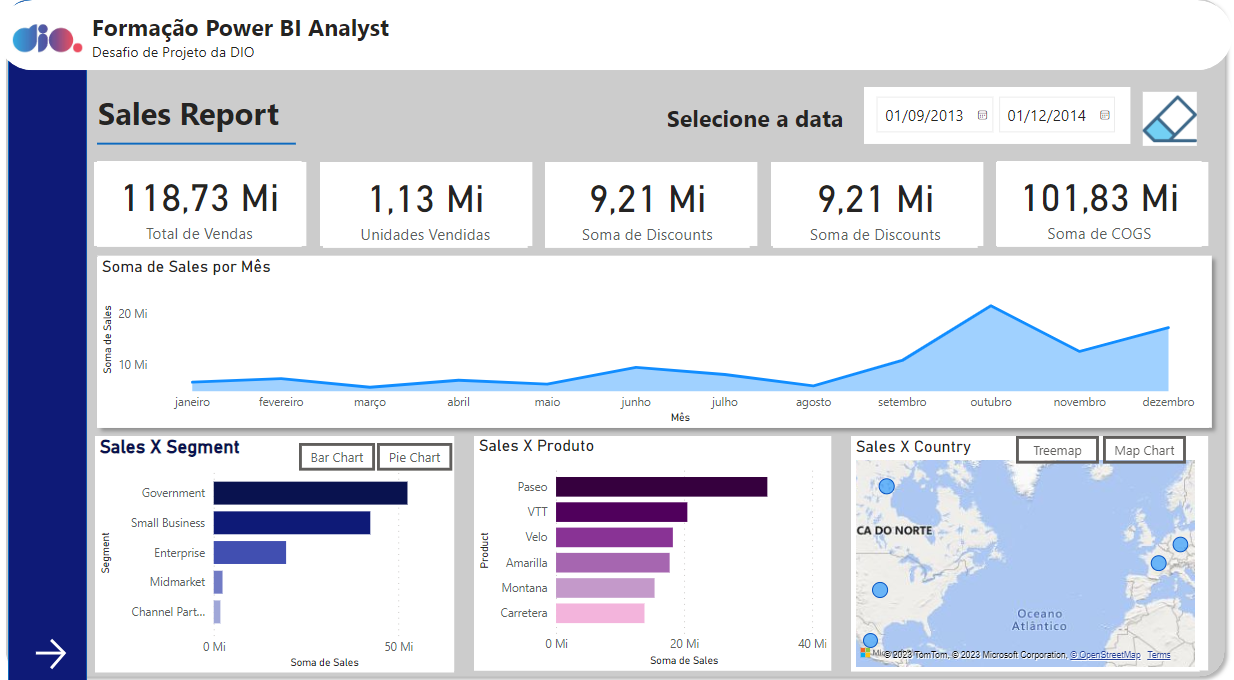

This screenshot's page, from the dashboard's own definition file:
{"tool":"powerbi","page":{"name":"Página 1","canvas":[1280,720],"ordinal":0},"visuals":[{"type":"shape","box":[0,0,1280.5,720],"z":0},{"type":"image","title":"Clean","box":[1179.6,100.4,68.7,66],"z":0,"group":"g4"},{"type":"shape","box":[101,178.6,220,87.1],"z":0,"group":"g2"},{"type":"shape","box":[103.9,462.4,370,242.9],"z":0,"group":"g1"},{"type":"slicer","fields":{"Values":["financials.Date"]},"box":[897.8,100.4,276.3,59.1],"z":1000,"group":"g4"},{"type":"shape","box":[334.7,178.6,220,87.1],"z":1000,"group":"g2"},{"type":"group","id":"g1","title":"Grupo 1","box":[103.9,462.4,1151.7,242.9],"z":1000},{"type":"shape","box":[885.4,462.4,370.2,242.9],"z":1000,"group":"g1"},{"type":"map","title":"Sales X Country","fields":{"Size":["Sum(financials. Sales)"],"Category":["financials.Country"]},"box":[885,462.5,361.5,242.9],"z":1000,"group":"g3"},{"type":"shape","box":[11.7,10.2,82,709.8],"z":2000},{"type":"textbox","box":[674.1,111,221.9,54.6],"z":2000,"group":"g4"},{"type":"shape","box":[568.5,178.6,220,87.1],"z":2000,"group":"g2"},{"type":"shape","box":[494.5,462.4,370.2,242.9],"z":2000,"group":"g1"},{"type":"actionButton","title":"Botão Map Chart","box":[1145.7,461.9,85.9,28.6],"z":2250,"group":"g3"},{"type":"actionButton","title":"Botão Treemap","box":[1056.2,461.9,85.9,28.6],"z":2500,"group":"g3"},{"type":"shape","box":[802.2,178.6,220,87.1],"z":3000,"group":"g2"},{"type":"shape","box":[1035.9,178.6,220,87.1],"z":4000,"group":"g2"},{"type":"shape","title":"Forma","box":[0,10,1280,72.9],"z":5000},{"type":"card","fields":{"Values":["Sum(financials. Sales)"]},"box":[103.9,177.1,212.2,89.3],"z":5000,"group":"g2"},{"type":"image","box":[11.7,16.1,82,67.3],"z":5500},{"type":"textbox","title":"Título do report","box":[93.7,16.1,1091.7,67.3],"z":6000},{"type":"card","fields":{"Values":["Sum(financials.Units Sold)"]},"box":[338.1,178.6,212.2,89.3],"z":6000,"group":"g2"},{"type":"shape","box":[103.9,153.7,206.3,11.7],"z":7000},{"type":"card","fields":{"Values":["Sum(financials.Discounts)"]},"box":[567.8,178.6,212.2,89.3],"z":7000,"group":"g2"},{"type":"textbox","box":[99.5,99.5,216.6,54.1],"z":8000},{"type":"card","fields":{"Values":["Sum(financials.COGS)"]},"box":[1036.1,177.1,212.2,89.3],"z":8000,"group":"g2"},{"type":"card","fields":{"Values":["Sum(financials.Discounts)"]},"box":[804.9,178.6,212.2,89.3],"z":9000,"group":"g2"},{"type":"shape","box":[95.1,266.3,1172.2,196.1],"z":9000},{"type":"group","id":"g2","title":"Cartões","box":[101,177.1,1154.9,90.7],"z":10000},{"type":"areaChart","fields":{"Y":["Sum(financials. Sales)"],"Category":["financials.Date.Variation.Hierarquia de datas.Mês"]},"box":[103.9,276.6,1151.7,177.1],"z":11000},{"type":"clusteredBarChart","title":"Sales X Produto","fields":{"Y":["Sum(financials. Sales)"],"Category":["financials.Product"]},"box":[494.6,462.4,370.2,242.9],"z":12000},{"type":"group","id":"g3","title":"Sales X País","box":[883.9,461.9,362.5,243.5],"z":13000},{"type":"group","id":"g4","title":"Grupo 2","box":[674.1,100.4,574.2,66],"z":14000},{"type":"actionButton","title":"Botão avançar","box":[34.2,667.5,59.5,41.6],"z":15000},{"type":"clusteredBarChart","title":"Sales X Segment","fields":{"Y":["Sum(financials. Sales)"],"Category":["financials.Segment"]},"box":[101.7,462,372.4,245.3],"z":16000,"group":"g5"},{"type":"group","id":"g5","title":"Sales X Segment","box":[101.7,462,372.4,247],"z":19001},{"type":"actionButton","title":"Botão Bar Chart","box":[313.4,469.2,78.8,28.6],"z":19500,"group":"g5"},{"type":"actionButton","title":"Botão Pie Chart","box":[394,469.2,78,28.6],"z":20000,"group":"g5"}]}

Visuals, with their boxes on the page's 1280x720 design canvas (x1, y1, x2, y2). These are canvas units, not pixel positions in the 1234x680 screenshot, which may show the page scaled, cropped or inside an application window:
shape: (left=0, top=0, right=1280, bottom=720)
"Clean" image: (left=1180, top=100, right=1248, bottom=166)
shape: (left=101, top=179, right=321, bottom=266)
shape: (left=104, top=462, right=474, bottom=705)
slicer - financials.Date: (left=898, top=100, right=1174, bottom=160)
shape: (left=335, top=179, right=555, bottom=266)
"Grupo 1" group: (left=104, top=462, right=1256, bottom=705)
shape: (left=885, top=462, right=1256, bottom=705)
"Sales X Country" map: (left=885, top=462, right=1246, bottom=705)
shape: (left=12, top=10, right=94, bottom=720)
textbox: (left=674, top=111, right=896, bottom=166)
shape: (left=568, top=179, right=788, bottom=266)
shape: (left=494, top=462, right=865, bottom=705)
"Botão Map Chart" actionButton: (left=1146, top=462, right=1232, bottom=490)
"Botão Treemap" actionButton: (left=1056, top=462, right=1142, bottom=490)
shape: (left=802, top=179, right=1022, bottom=266)
shape: (left=1036, top=179, right=1256, bottom=266)
"Forma" shape: (left=0, top=10, right=1280, bottom=83)
card - Sum(financials. Sales): (left=104, top=177, right=316, bottom=266)
image: (left=12, top=16, right=94, bottom=83)
"Título do report" textbox: (left=94, top=16, right=1185, bottom=83)
card - Sum(financials.Units Sold): (left=338, top=179, right=550, bottom=268)
shape: (left=104, top=154, right=310, bottom=165)
card - Sum(financials.Discounts): (left=568, top=179, right=780, bottom=268)
textbox: (left=100, top=100, right=316, bottom=154)
card - Sum(financials.COGS): (left=1036, top=177, right=1248, bottom=266)
card - Sum(financials.Discounts): (left=805, top=179, right=1017, bottom=268)
shape: (left=95, top=266, right=1267, bottom=462)
"Cartões" group: (left=101, top=177, right=1256, bottom=268)
areaChart - Sum(financials. Sales) x financials.Date.Variation.Hierarquia de datas.Mês: (left=104, top=277, right=1256, bottom=454)
"Sales X Produto" clusteredBarChart: (left=495, top=462, right=865, bottom=705)
"Sales X País" group: (left=884, top=462, right=1246, bottom=705)
"Grupo 2" group: (left=674, top=100, right=1248, bottom=166)
"Botão avançar" actionButton: (left=34, top=668, right=94, bottom=709)
"Sales X Segment" clusteredBarChart: (left=102, top=462, right=474, bottom=707)
"Sales X Segment" group: (left=102, top=462, right=474, bottom=709)
"Botão Bar Chart" actionButton: (left=313, top=469, right=392, bottom=498)
"Botão Pie Chart" actionButton: (left=394, top=469, right=472, bottom=498)
